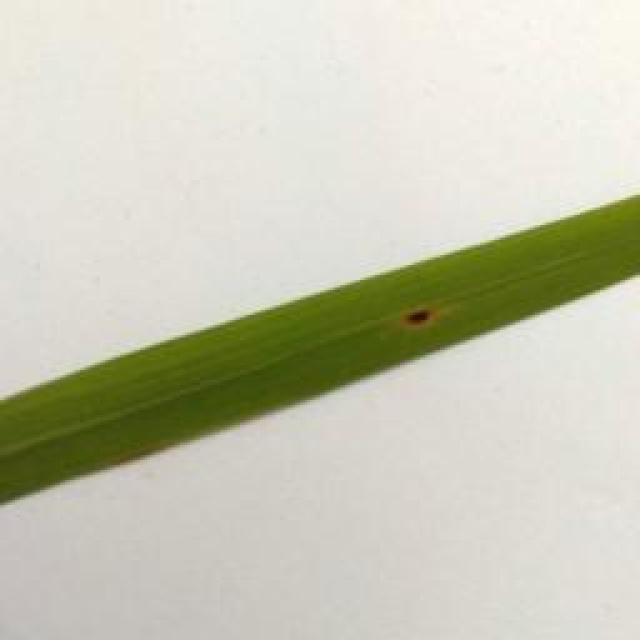Brown_Spot: (389, 300, 443, 334)
